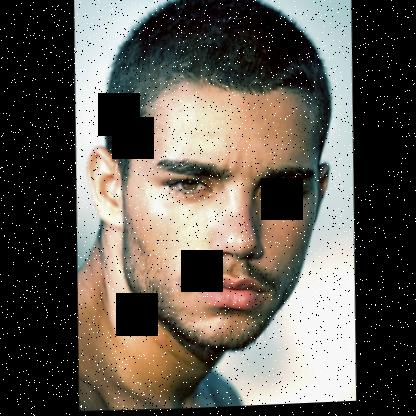Male: (79, 74, 334, 358)
